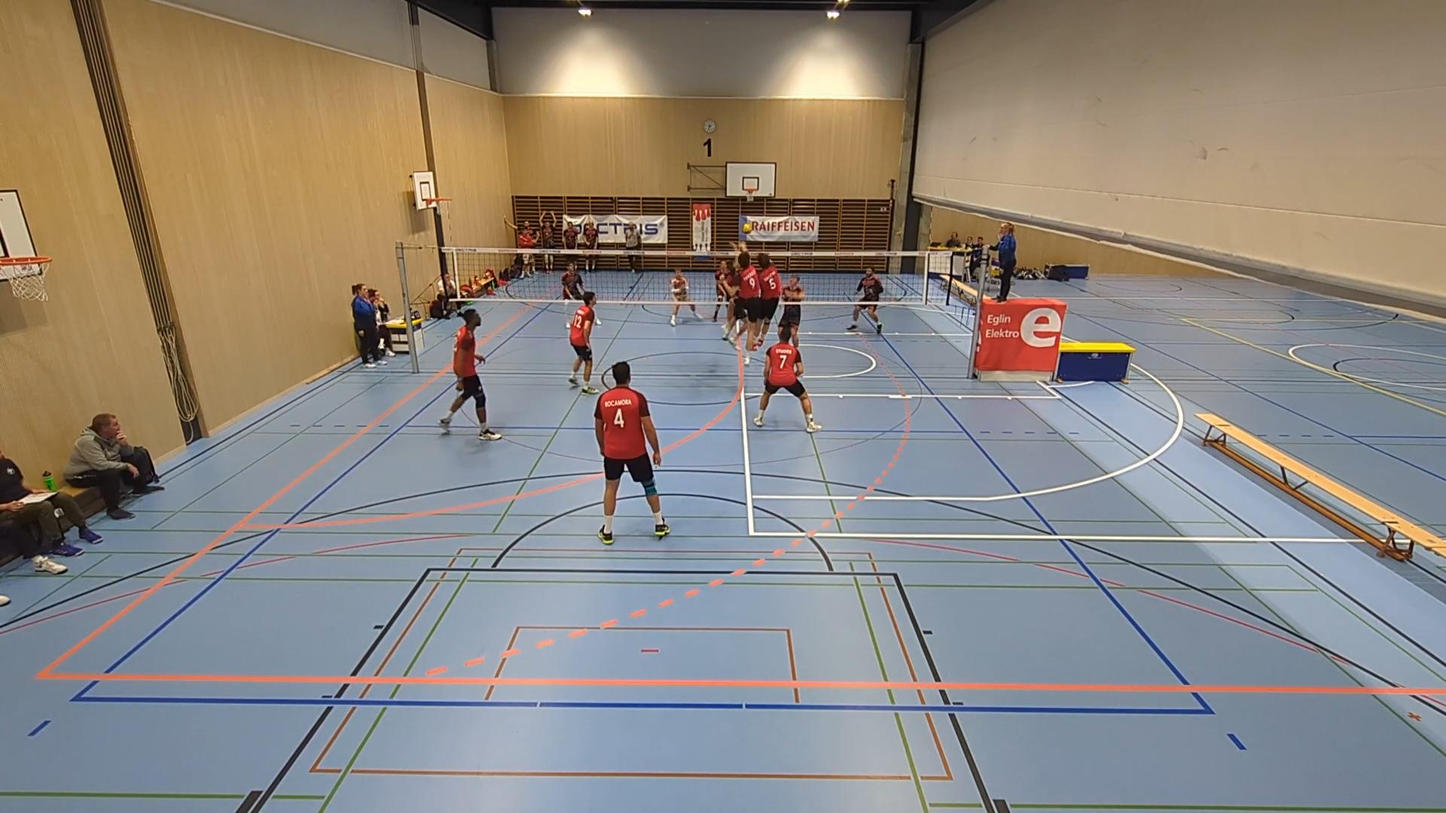muro: (717, 239, 753, 368), (756, 243, 780, 357)
